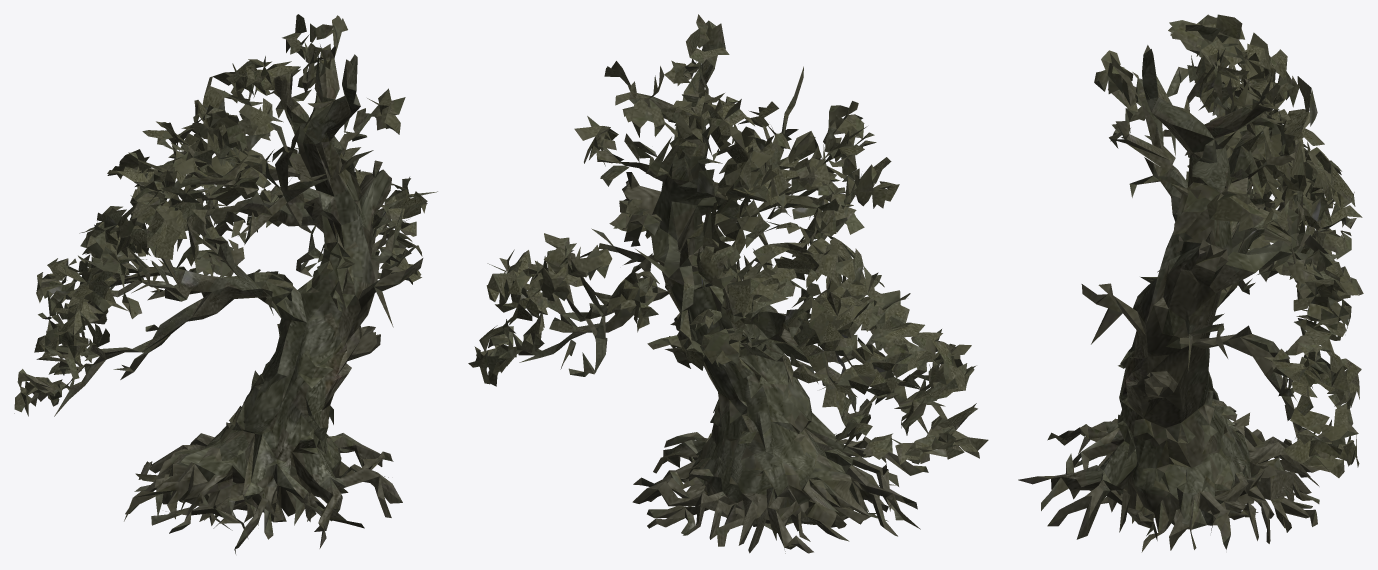
File: oak3.glb
The picture shows the model from 3 angles, left to right: view 1: azimuth 30°, elevation 25°; view 2: azimuth 150°, elevation 25°; view 3: azimuth 270°, elevation 25°; orthographic projection. The views are drawn at different scales.
Parts seen in each view (by area): view 1: Mesh_0; view 2: Mesh_0; view 3: Mesh_0.
Boxes of the visible parts, bbox=[...] form: Mesh_0: bbox=[14, 14, 437, 553]; Mesh_0: bbox=[468, 14, 988, 553]; Mesh_0: bbox=[1018, 14, 1363, 552].
Size of the model in its own units: 6.68 by 6.4 by 3.95.
Materials: 1 (1 with a texture image).
